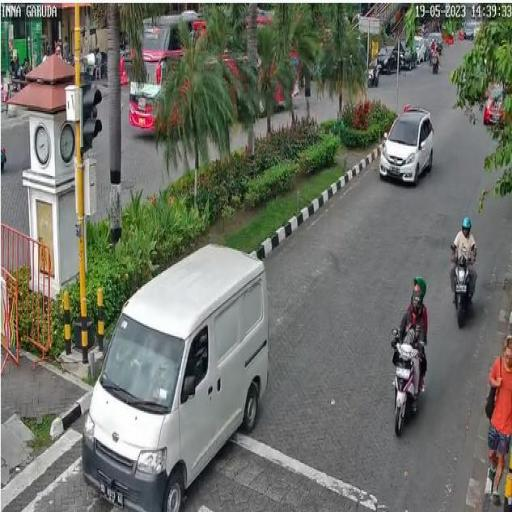mobil: (81, 240, 271, 512), (381, 100, 434, 192)
motor: (386, 316, 434, 444), (448, 237, 482, 330)
